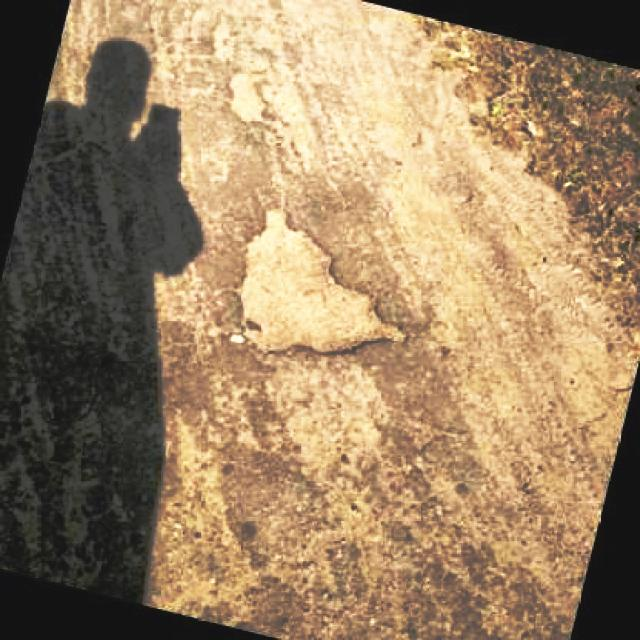pothole: (222, 208, 410, 362), (210, 24, 272, 128)
